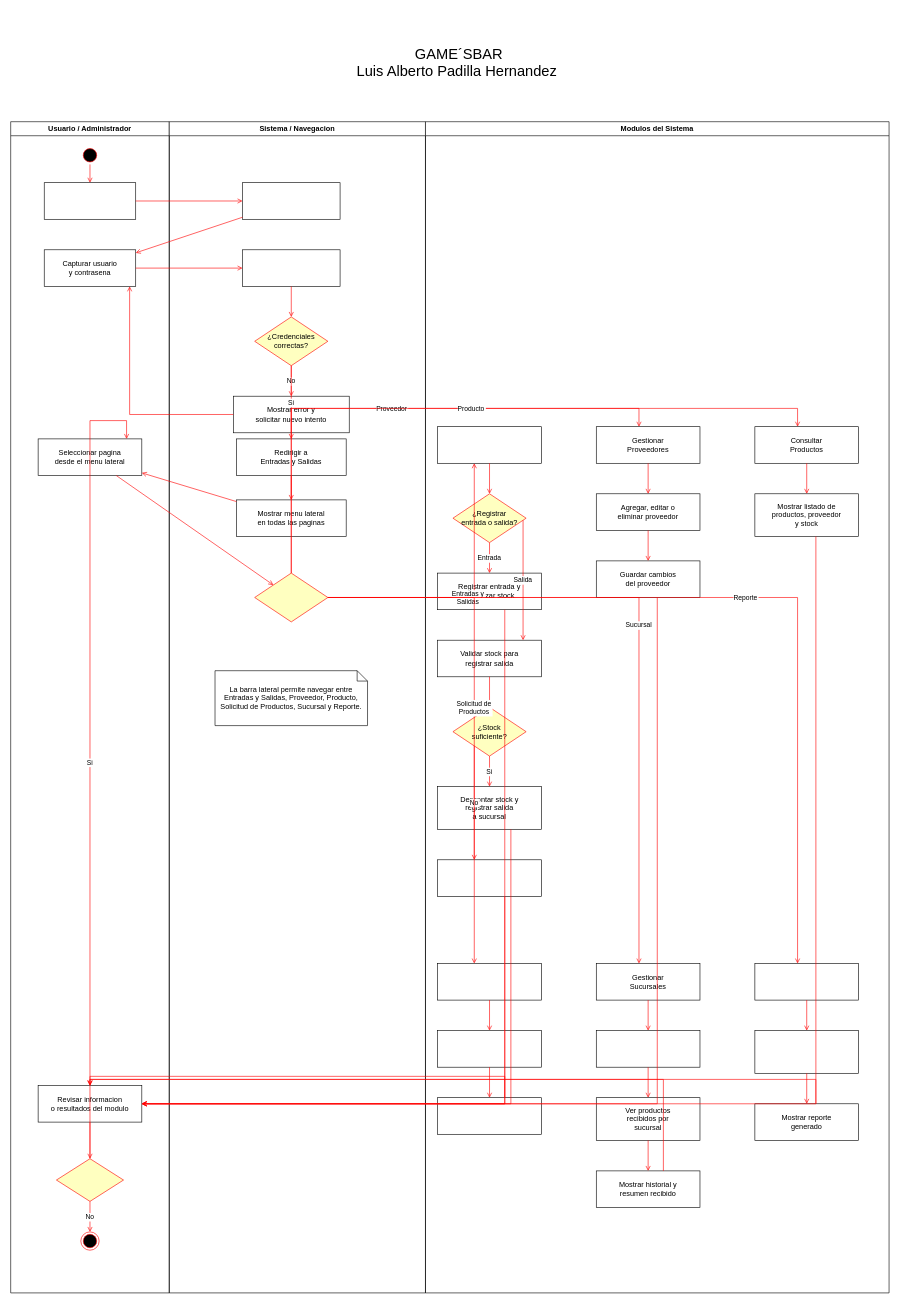
Image size: 900x1304. Some labels were removed from this diagram. Each missing label, with the centre of its shape:
"Acceder a la pagina de login" belongs at point (90, 200).
"Agregar, editar o eliminar sucursal" belongs at point (648, 1048).
"Capturar folio, proveedor y productos" belongs at point (489, 1048).
"Capturar nombre del reporte e incidencias" belongs at point (806, 1051).
"Generar Reporte" belongs at point (806, 981).
"Gestionar Entradas y Salidas" belongs at point (489, 444).
"Gestionar Solicitud de Productos" belongs at point (489, 981).
"Guardar solicitud" belongs at point (489, 1115).
"Mostrar error por stock insuficiente" belongs at point (489, 877).
"Mostrar formulario de login" belongs at point (291, 200).
"Validar credenciales" belongs at point (291, 267).
"¿Ir a otro modulo?" belongs at point (90, 1179).
"¿Que pagina desea abrir?" belongs at point (291, 597).
